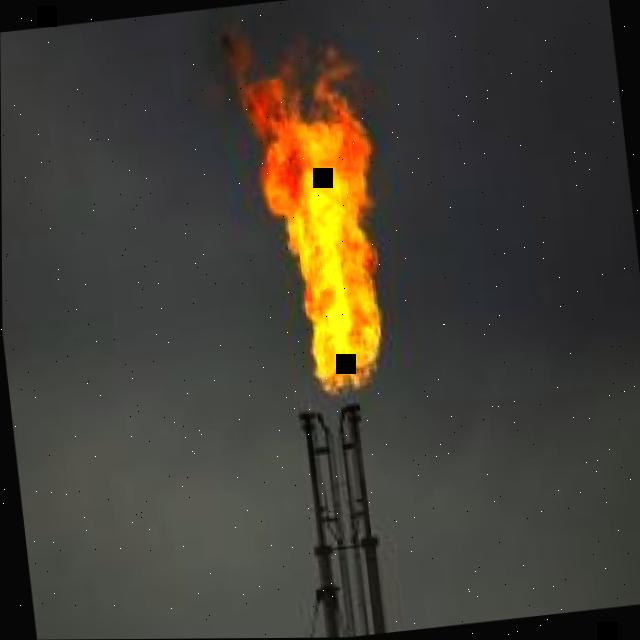fire: (222, 17, 380, 392)
smoke: (181, 0, 334, 122)
